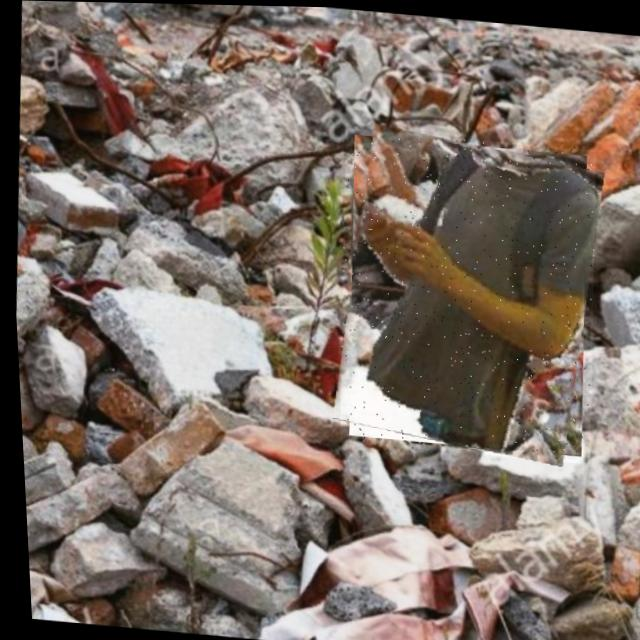Person in Rubble: (322, 125, 606, 462)
